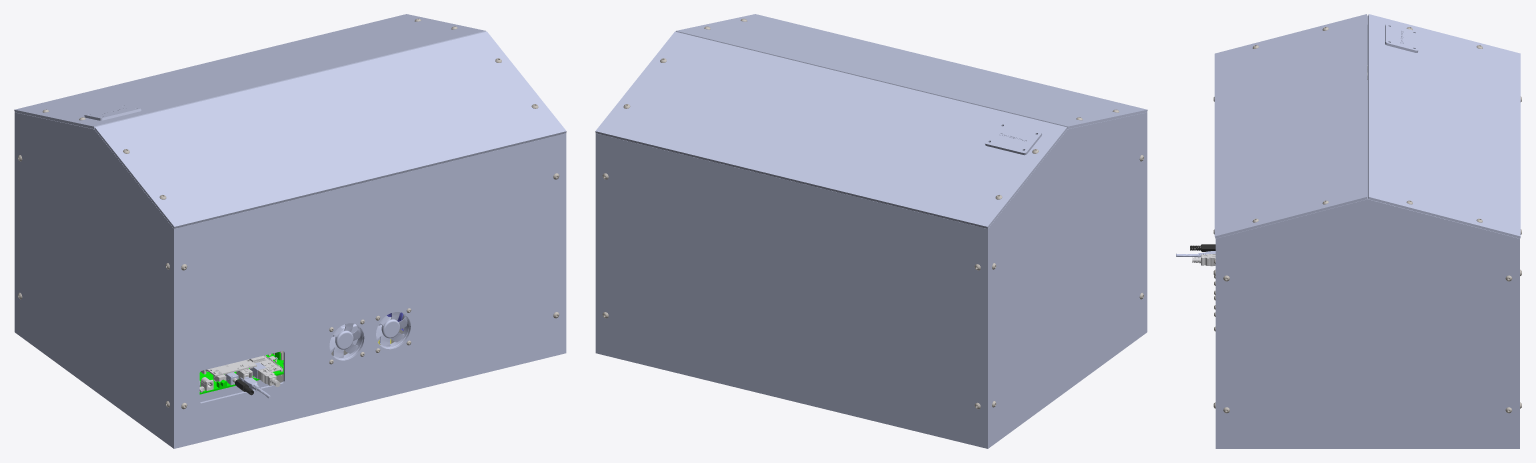
The model's file is nhakinh-cad.glb.
The picture shows the model from 3 angles, left to right: view 1: azimuth 30°, elevation 25°; view 2: azimuth 150°, elevation 25°; view 3: azimuth 270°, elevation 25°; orthographic projection. The views are drawn at different scales.
Parts seen in each view (by area): view 1: 1_tuong_ben_canh_mach, 3_mai_nha_mo_cay (×2), 2_tuong_mai_mat_truoc (×2), 10_Quat_thong_gio (×2); view 2: 1_tuong_ben_canh_cay, 3_mai_nha_mo_cay (×2), 2_tuong_mai_mat_truoc (×2), 9.0_tam_cam_bien_mua; view 3: 2_tuong_mai_mat_truoc, 3_mai_nha_mo_cay (×2), 9.0_tam_cam_bien_mua.
Part boxes in pixels (x1=…): 1_tuong_ben_canh_mach: x1=176, y1=134, x2=563, y2=448; 3_mai_nha_mo_cay (×2): x1=14, y1=14, x2=566, y2=228; 2_tuong_mai_mat_truoc (×2): x1=14, y1=112, x2=566, y2=448; 10_Quat_thong_gio (×2): x1=329, y1=312, x2=409, y2=359; 1_tuong_ben_canh_cay: x1=598, y1=134, x2=985, y2=448; 3_mai_nha_mo_cay (×2): x1=595, y1=14, x2=1147, y2=228; 2_tuong_mai_mat_truoc (×2): x1=595, y1=112, x2=1147, y2=448; 9.0_tam_cam_bien_mua: x1=984, y1=122, x2=1041, y2=155; 2_tuong_mai_mat_truoc: x1=1215, y1=198, x2=1519, y2=448; 3_mai_nha_mo_cay (×2): x1=1214, y1=14, x2=1520, y2=238; 9.0_tam_cam_bien_mua: x1=1385, y1=23, x2=1418, y2=52.
Bounding box in the file's own units: 0.5104 × 0.3251 × 0.4043.
